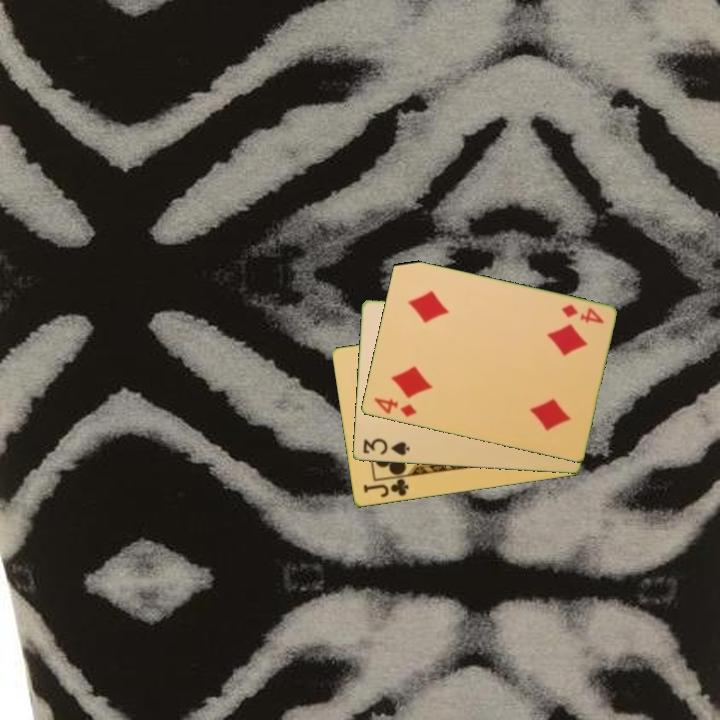3s: (359, 435, 412, 458)
4d: (370, 394, 419, 420), (557, 301, 606, 327)
Jc: (360, 475, 411, 501)
